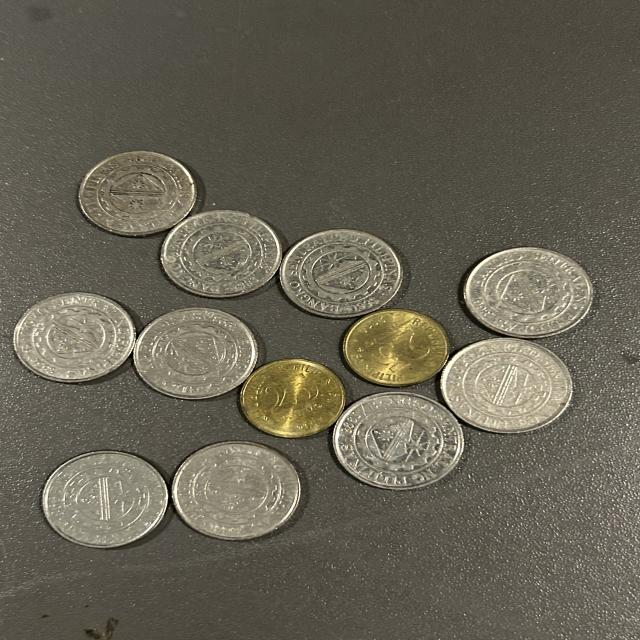1_Old_Back: (16, 305, 134, 386), (82, 151, 196, 230), (350, 403, 464, 476), (56, 458, 160, 532), (468, 348, 565, 424), (187, 454, 283, 530), (182, 217, 275, 294), (150, 318, 240, 388), (302, 236, 384, 309)
25Cent_Old_Front: (364, 317, 439, 384), (252, 369, 333, 426)
